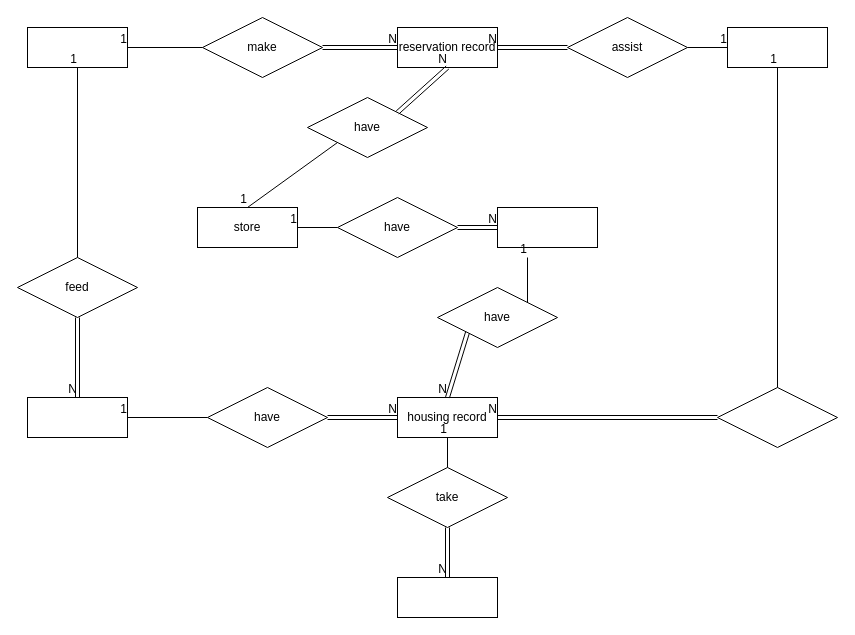
This 855x635 diagram has some shape labels left out. The centre of each missing label's shape, as x and y in pixels:
"cage" belongs at (x=547, y=227).
"customer" belongs at (x=77, y=47).
"employee" belongs at (x=777, y=47).
"fill up" belongs at (x=777, y=417).
"pet" belongs at (x=77, y=417).
"photo" belongs at (x=447, y=597).
